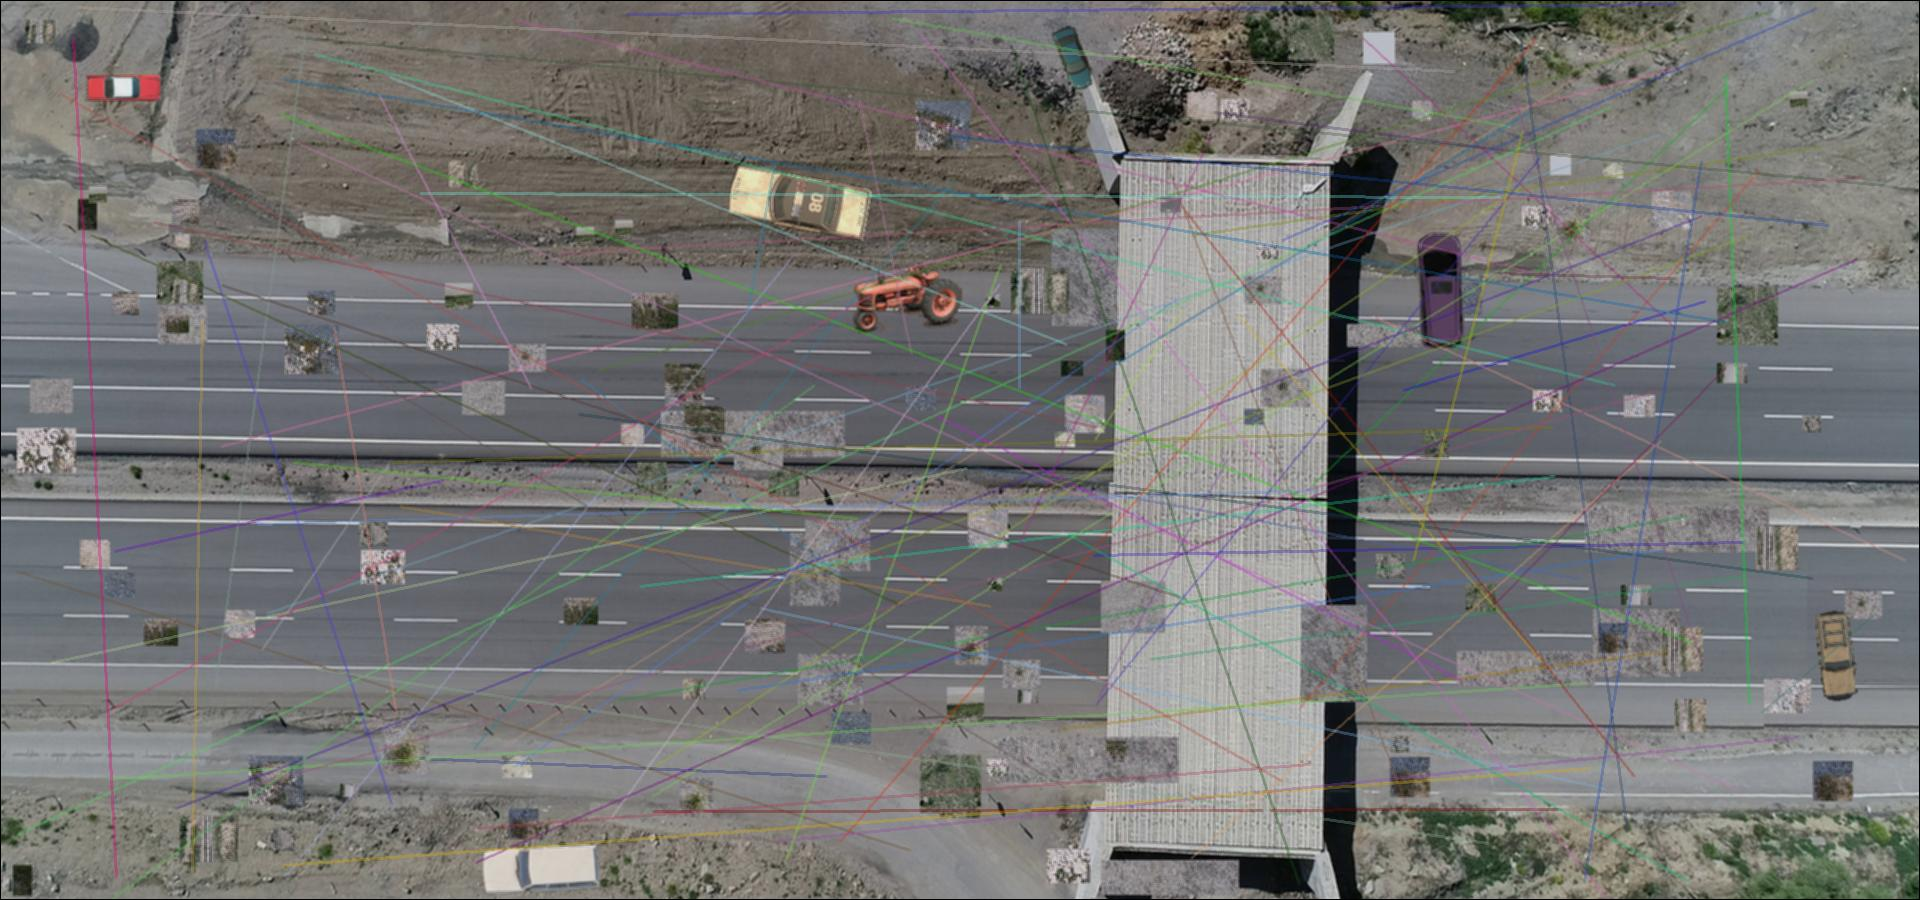arac: (729, 160, 872, 240), (852, 263, 962, 333), (1413, 231, 1468, 353), (480, 842, 602, 895), (1812, 611, 1859, 700), (1052, 26, 1093, 89), (84, 72, 163, 103)
